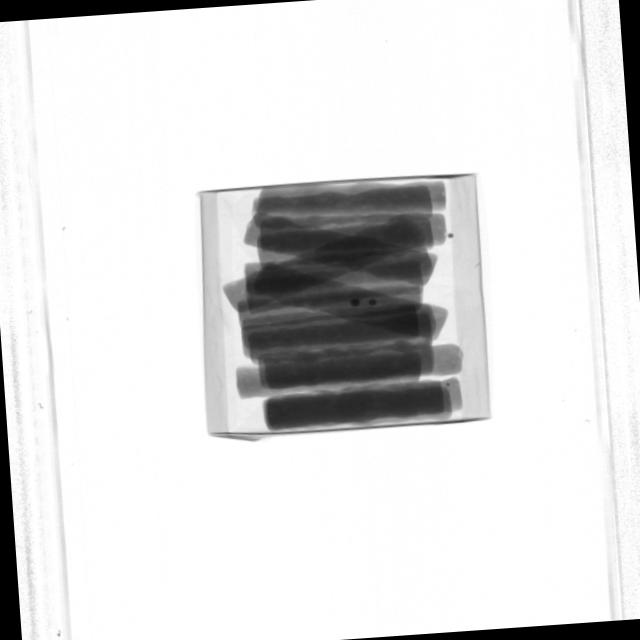ym: (349, 298, 360, 307), (368, 298, 378, 307), (448, 232, 454, 238), (445, 383, 450, 387)
